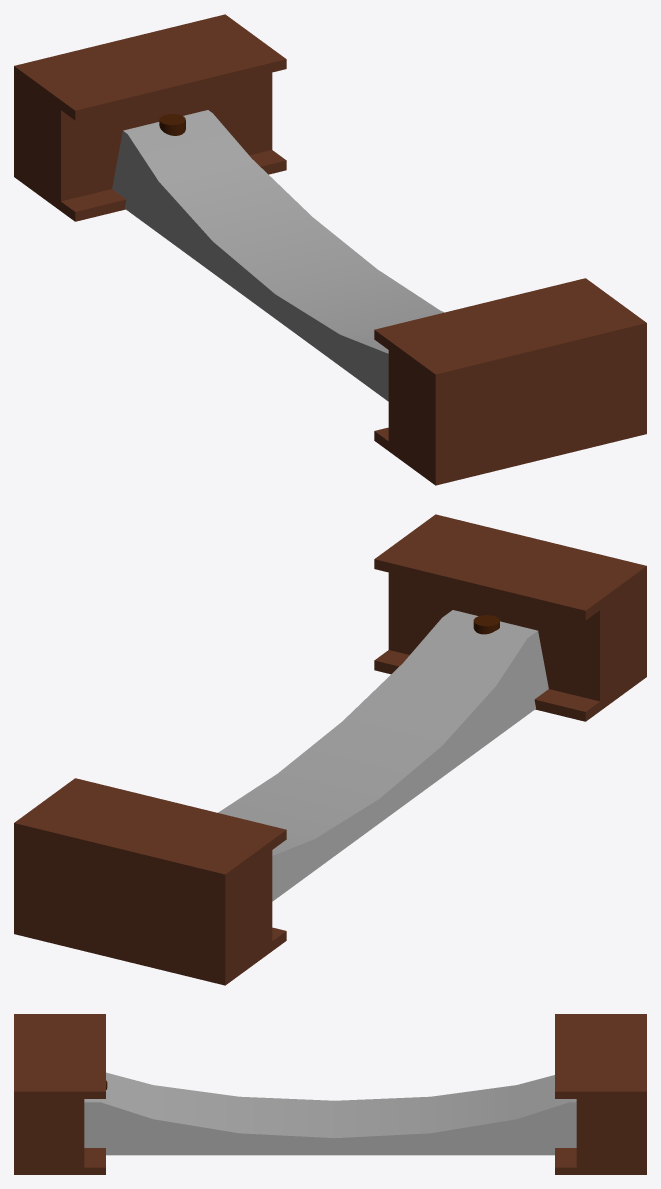
Rendered from Rail.fbx.
The picture shows the model from 3 angles, top to bottom: view 1: azimuth 30°, elevation 25°; view 2: azimuth 150°, elevation 25°; view 3: azimuth 270°, elevation 25°; orthographic projection. The views are drawn at different scales.
Visible parts, largest first — view 1: pCube4, pCube6, pCube3; view 2: pCube3, pCube6, pCube4; view 3: pCube6, pCube3, pCube4.
Part boxes in pixels (x1,y1,x2,y2): pCube4: (374,278,646,485); pCube6: (112,110,444,401); pCube3: (14,14,286,221); pCube3: (14,778,286,985); pCube6: (218,610,548,901); pCube4: (374,514,646,721); pCube6: (84,1072,576,1155); pCube3: (555,1014,646,1174); pCube4: (14,1014,105,1174).
Size of the model in its own units: 1.99 by 1 by 6.88.
